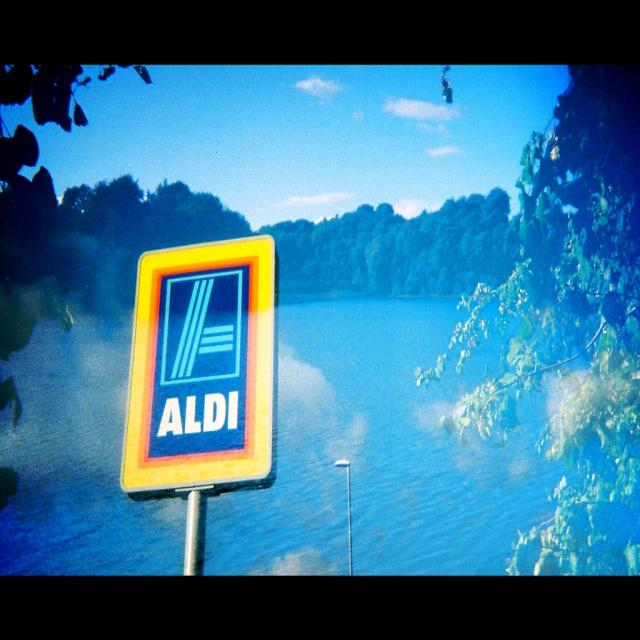aldi: (124, 238, 274, 489)
